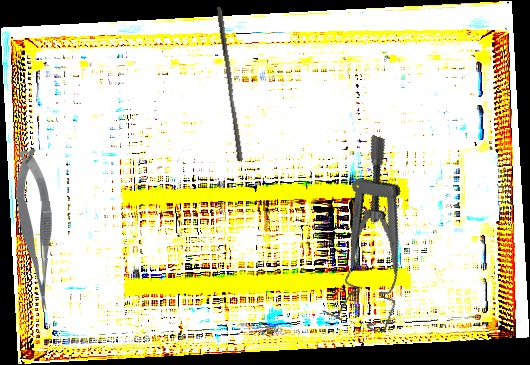Micro Scissor: (14, 147, 55, 312)
Pusher: (210, 6, 249, 162)
Speculum: (306, 133, 449, 337)
